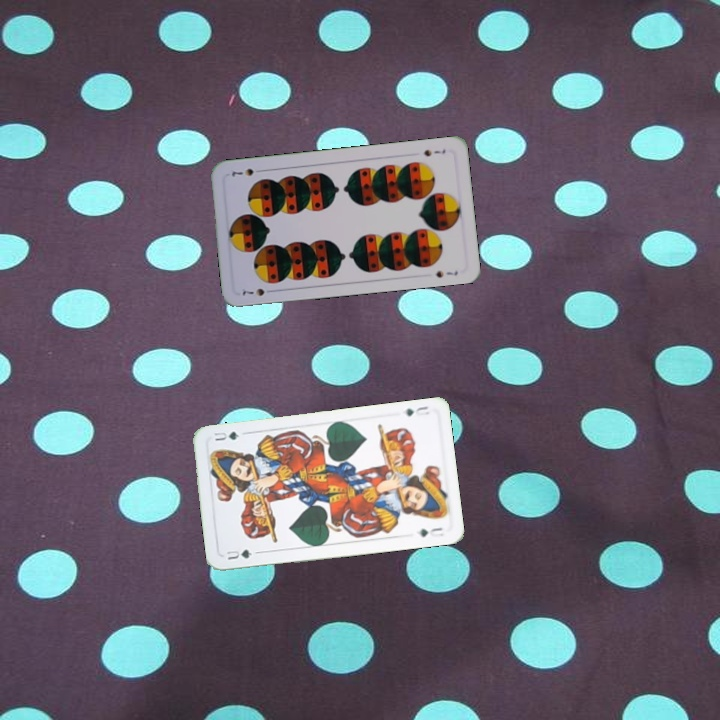GU: (221, 545, 254, 562), (401, 402, 432, 419)
S7: (237, 284, 277, 299), (420, 145, 448, 159)
